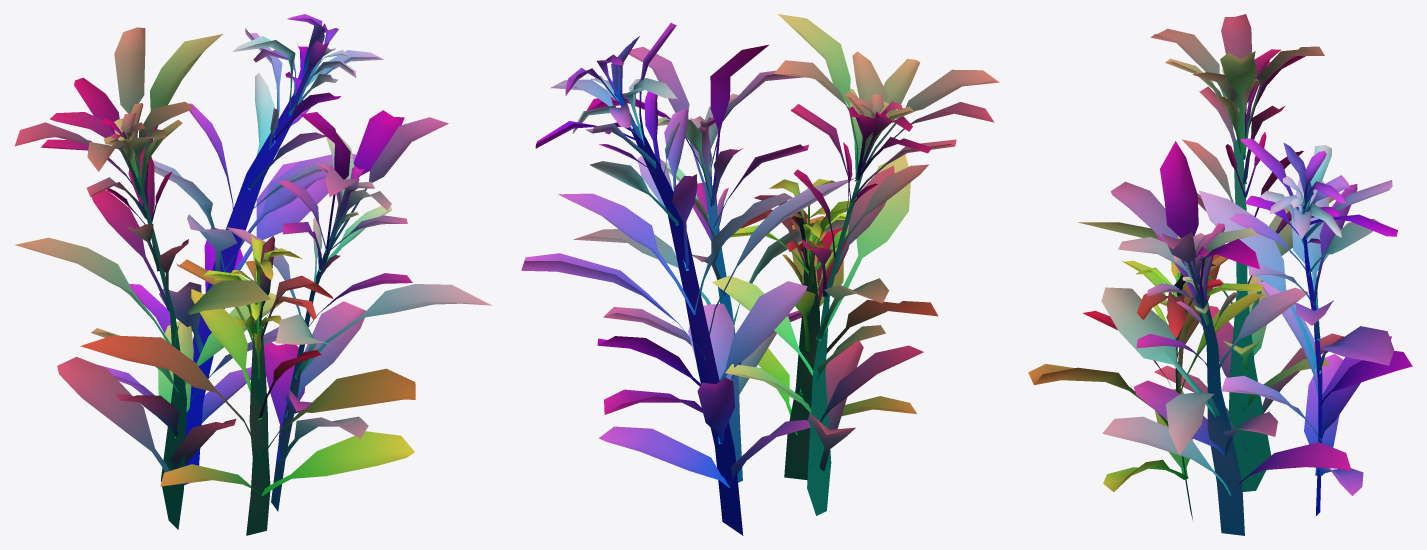
File: Sage_ve3gbfoja_Mid_ve3gbfoja_VarG_LOD1.fbx
3 renders of one model, left to right at view 1: azimuth 30°, elevation 25°; view 2: azimuth 150°, elevation 25°; view 3: azimuth 270°, elevation 25°, orthographic. The views are drawn at different scales.
Visible parts, largest first — view 1: _c6ad_VarG_LOD3; view 2: _c6ad_VarG_LOD3; view 3: _c6ad_VarG_LOD3.
Boxes of the visible parts, x1,y1,x2,y2 form: _c6ad_VarG_LOD3: (15,14,491,535); _c6ad_VarG_LOD3: (521,14,999,535); _c6ad_VarG_LOD3: (1028,14,1412,535).
Bounding box in the file's own units: 33.24 × 34.36 × 26.24.
